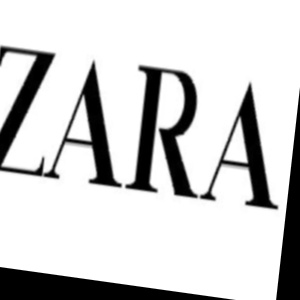zara: (290, 34, 300, 119)
